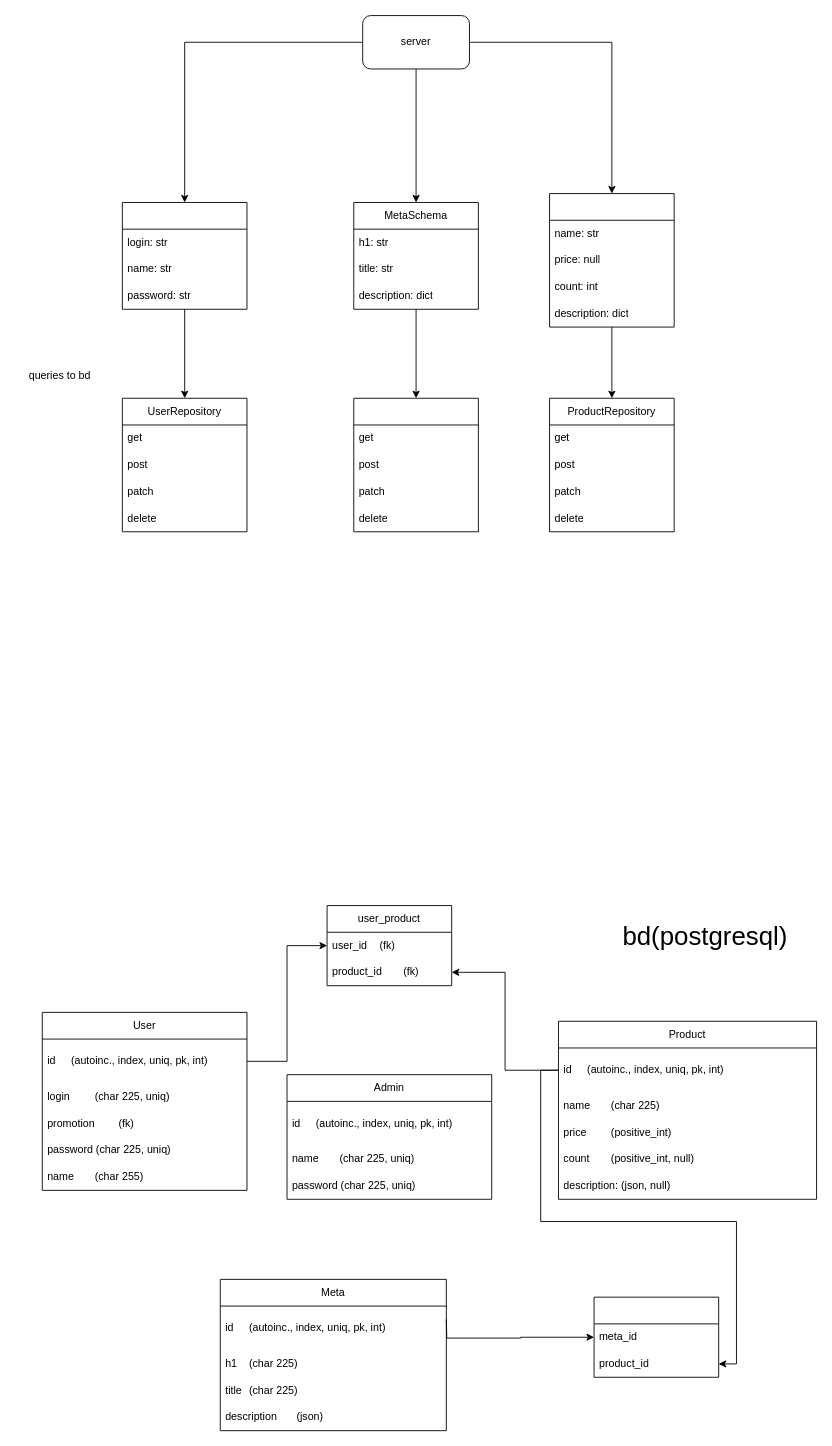
Image size: 832x1446. Some labels were removed from this diagram. Each missing label, with the box of its shape:
meta_product: (593, 1296, 719, 1377)
MetaRepository: (353, 397, 478, 532)
ProductSchema: (549, 193, 674, 327)
UserSchema: (121, 202, 247, 309)
